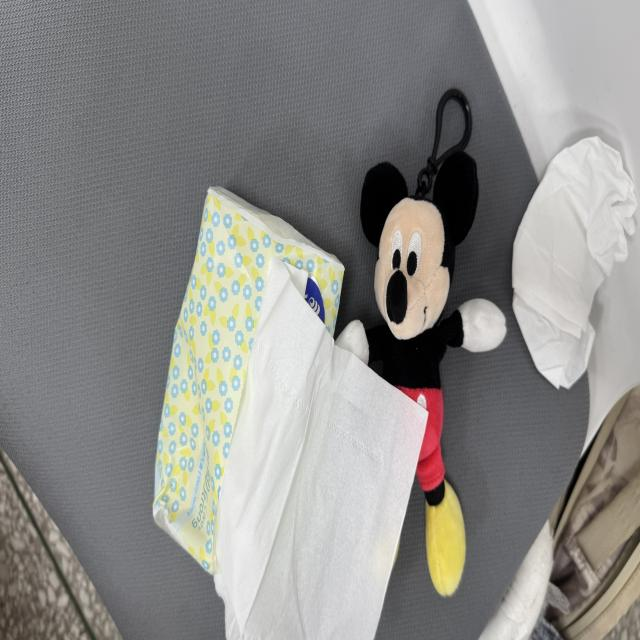mickey: (337, 151, 505, 595)
tissue: (216, 260, 427, 639), (154, 188, 343, 572), (513, 138, 637, 388), (479, 522, 553, 639), (513, 293, 594, 388)
